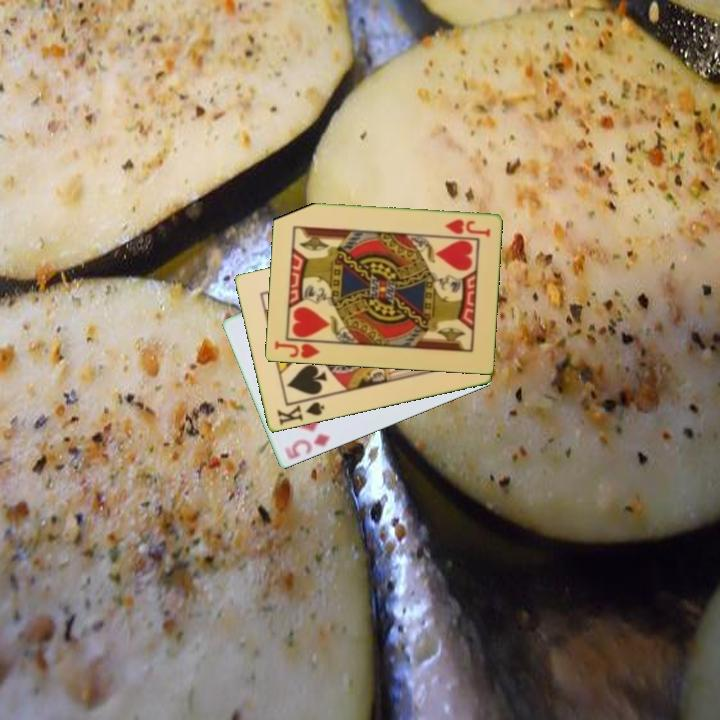5d: (281, 431, 333, 463)
Jh: (271, 337, 322, 362), (441, 216, 493, 239)
Ks: (273, 394, 327, 429)
